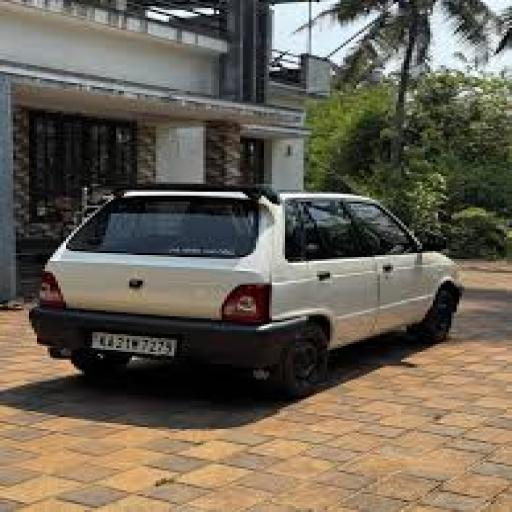License: (78, 330, 180, 361)
